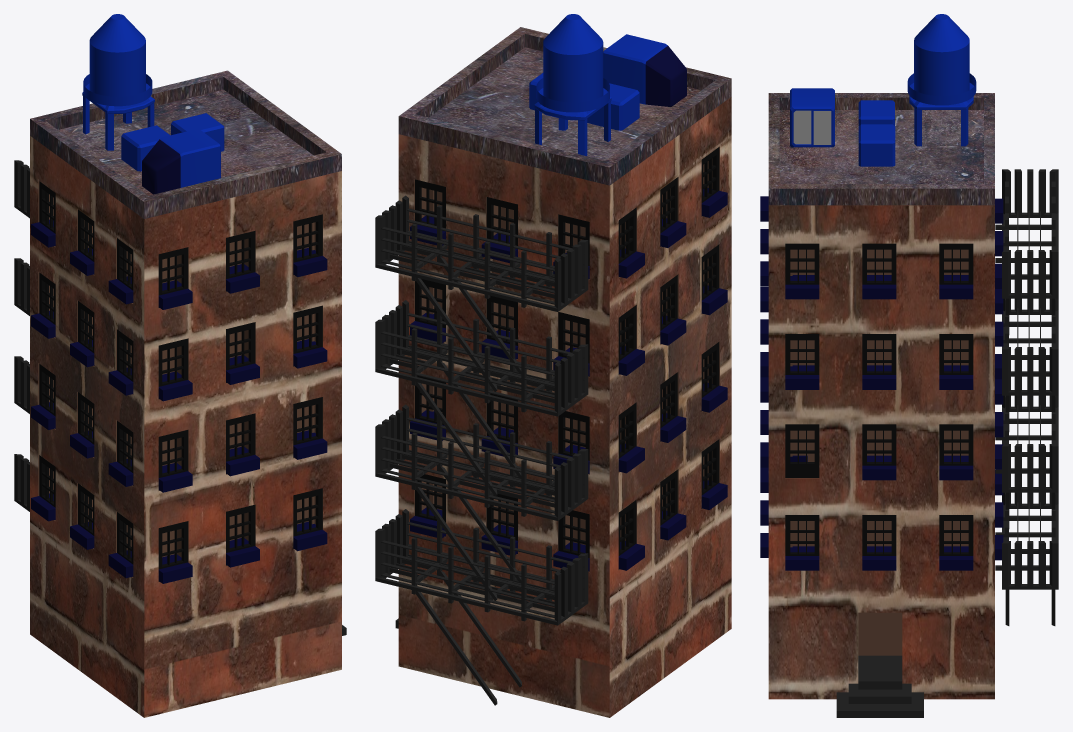
The model's file is buioldtall1.obj.
3 renders of one model, left to right at view 1: azimuth 30°, elevation 25°; view 2: azimuth 150°, elevation 25°; view 3: azimuth 270°, elevation 25°, orthographic. The views are drawn at different scales.
Parts seen in each view (by area): view 1: building_4_Cube.009; view 2: building_4_Cube.009; view 3: building_4_Cube.009.
Part boxes in pixels (x1=…): building_4_Cube.009: x1=14, y1=14, x2=346, y2=717; building_4_Cube.009: x1=375, y1=14, x2=731, y2=717; building_4_Cube.009: x1=760, y1=14, x2=1058, y2=717.
Bounding box in the file's own units: 2.47 × 6.01 × 2.64.
